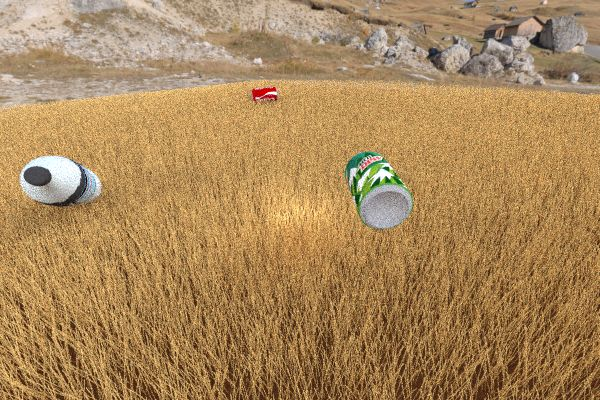Plastic Bottle: (344, 151, 413, 229), (19, 155, 101, 206), (250, 86, 277, 102)
